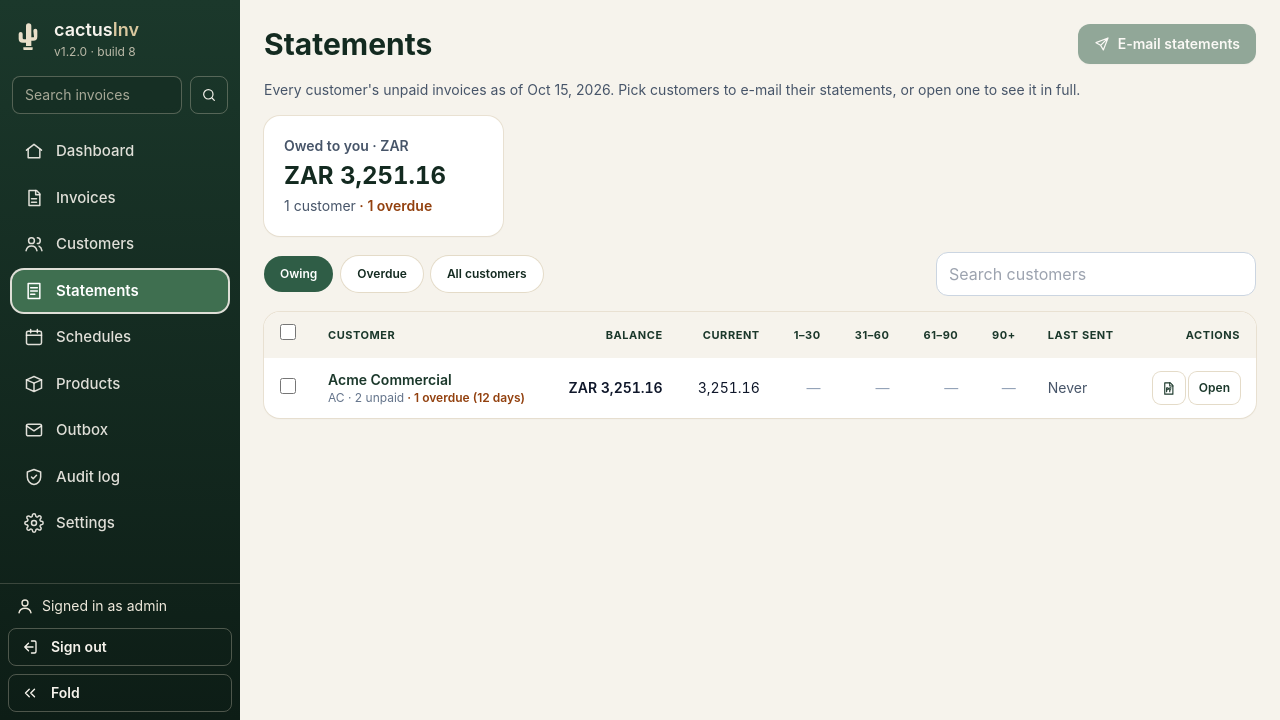
Test: the statements page lists balances and e-mails selected statements
Expected: the link "Acme Commercial" is shown, x1=328 y1=371 x2=452 y2=388
Expected: the text "Zero Owing Ltd" is not shown
Click the button "All customers".
click(487, 274)  # box x1=431 y1=256 x2=543 y2=292
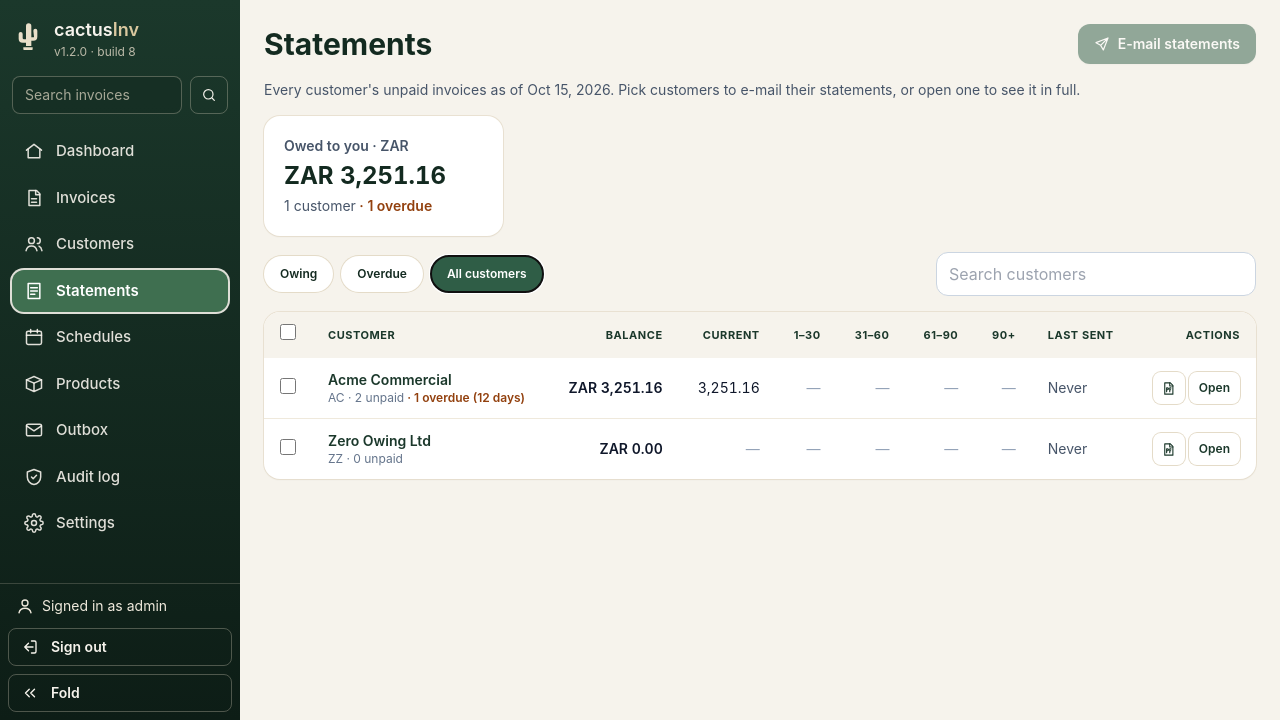
Now the link "Zero Owing Ltd" is shown, box x1=328 y1=432 x2=431 y2=449
Click the checkbox named "Select Acme Commercial".
click(288, 386)  # box x1=280 y1=378 x2=296 y2=394
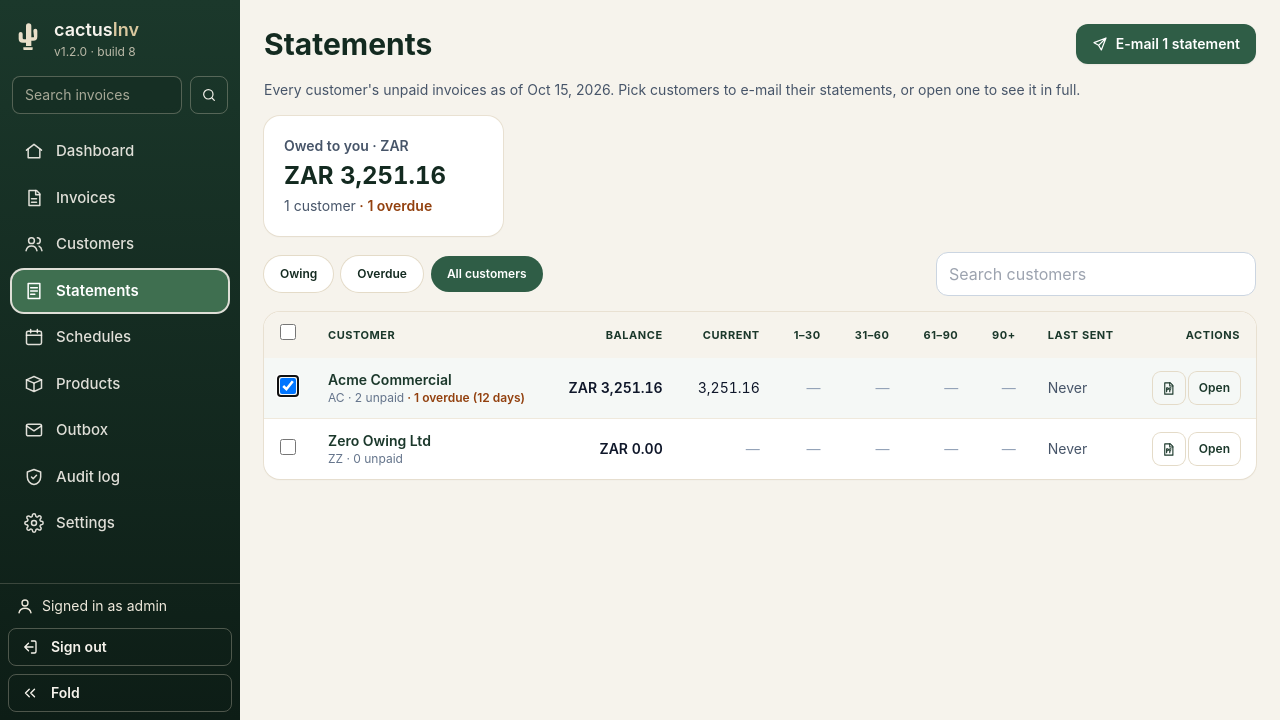
Click the button "E-mail 1 statement".
click(1166, 44)  # box x1=1076 y1=24 x2=1256 y2=64
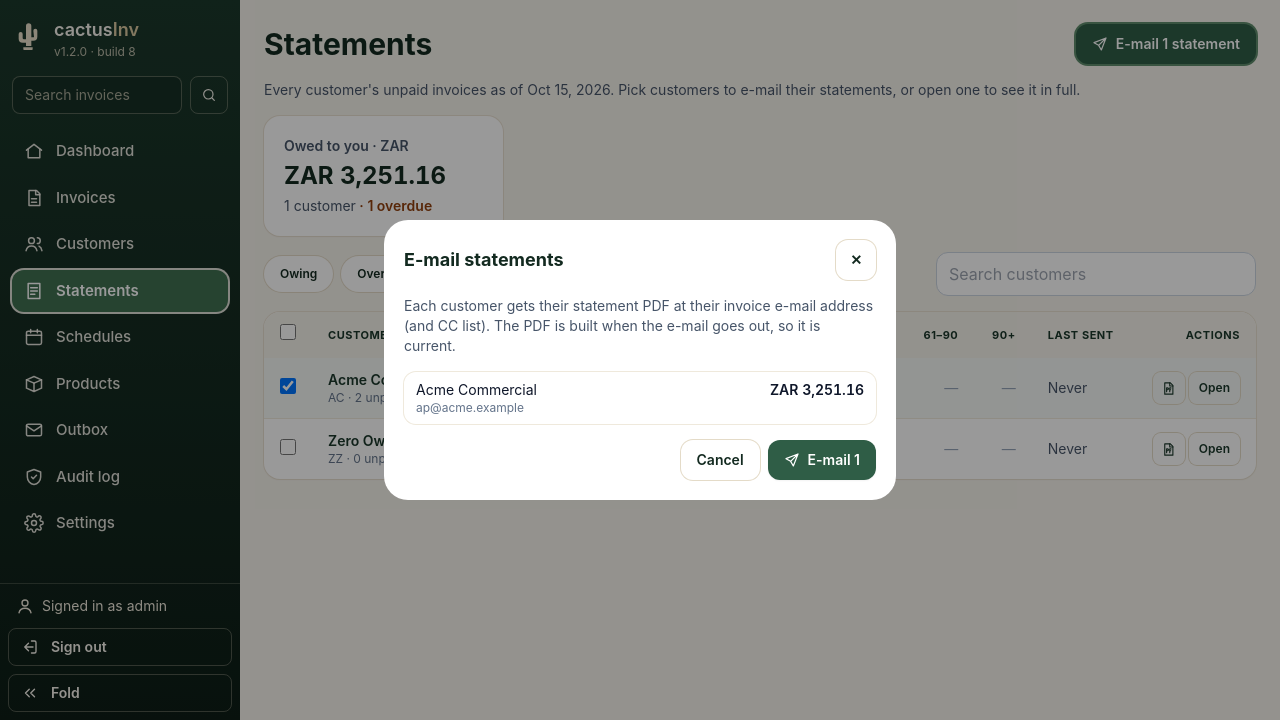
Click the button "E-mail 1".
click(822, 460)  # box x1=768 y1=440 x2=876 y2=480
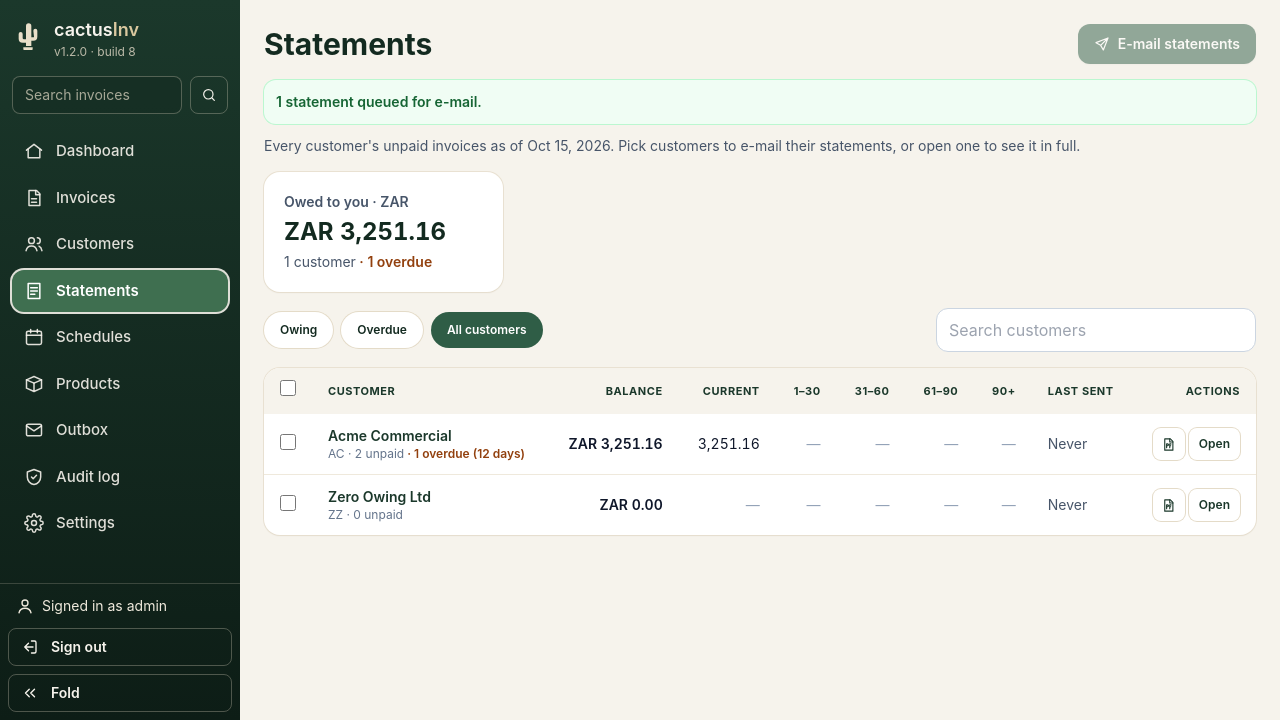
Now the text "1 statement queued for e-mail." is shown, box x1=264 y1=80 x2=1256 y2=124
